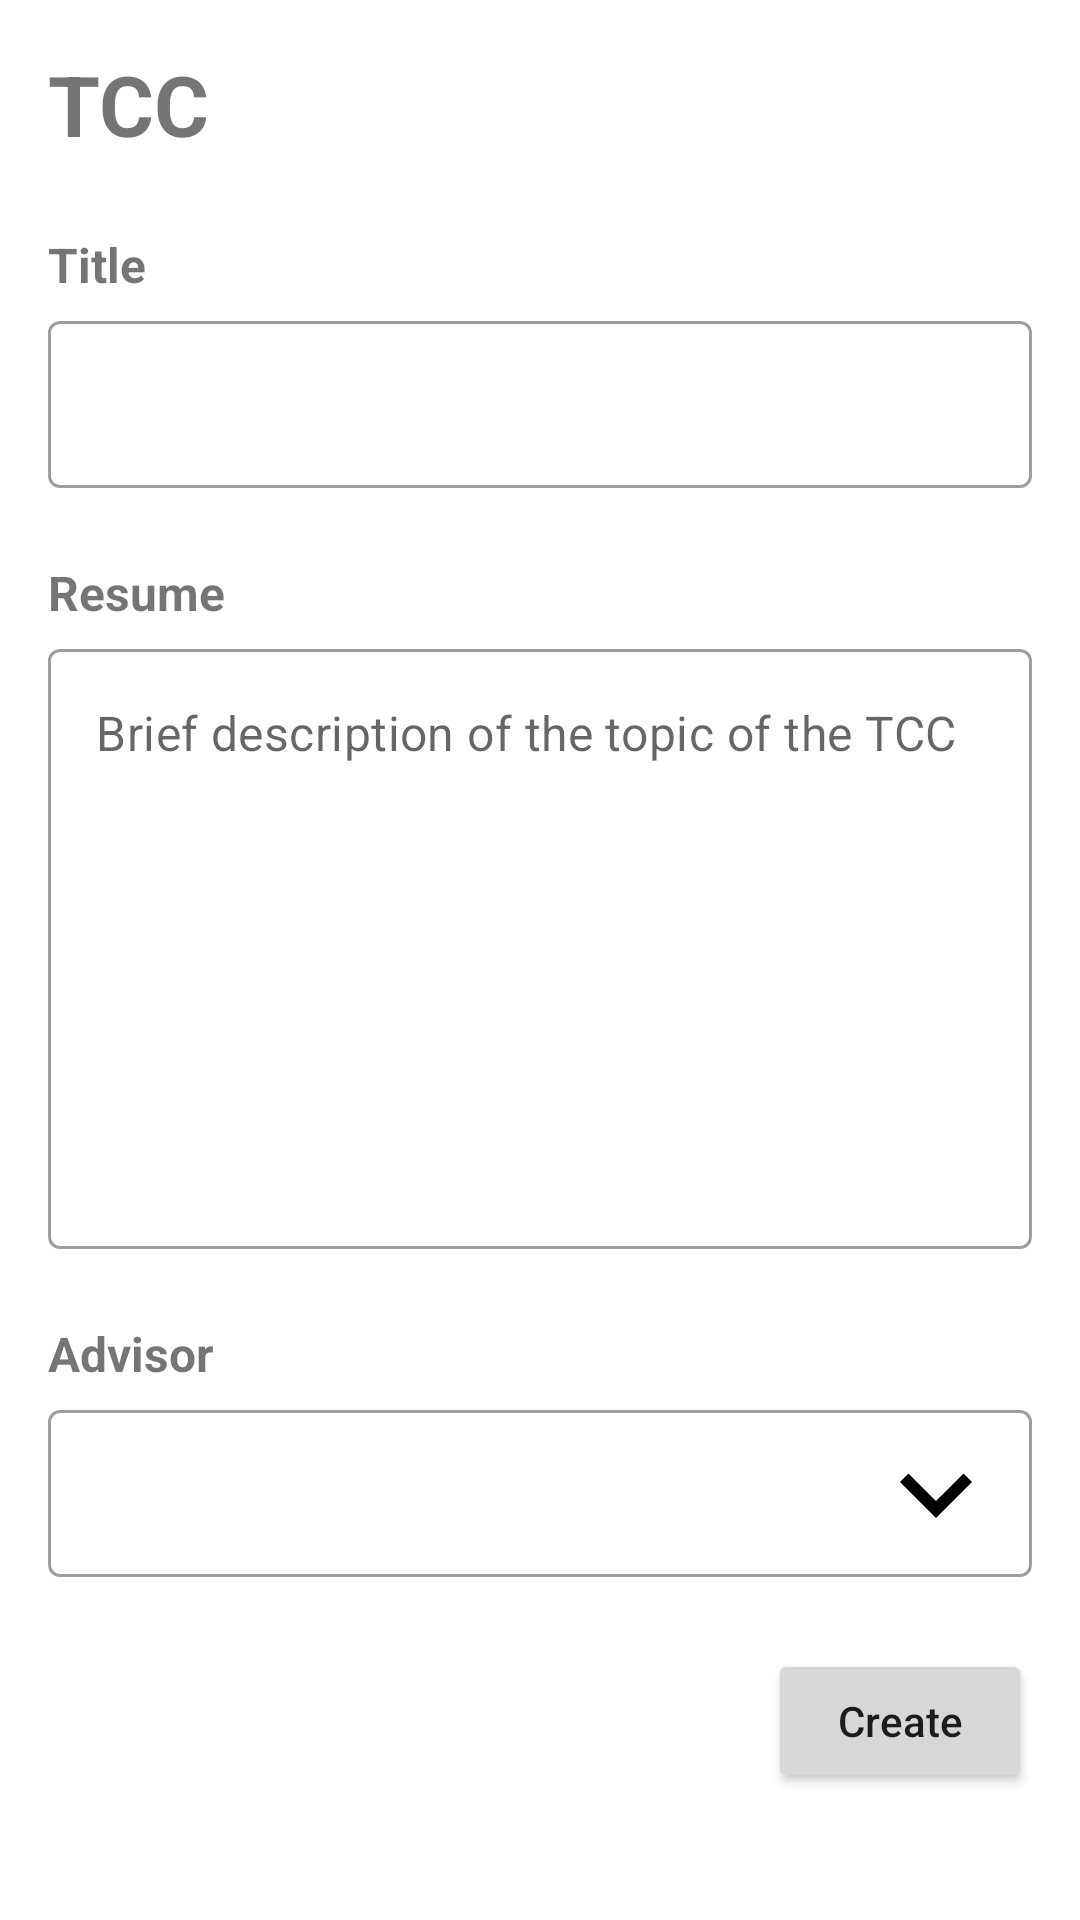

Icons on this 1080px x 1920px Android screen, each with the point to tap as point (x, y):
down: point (936, 1495)
